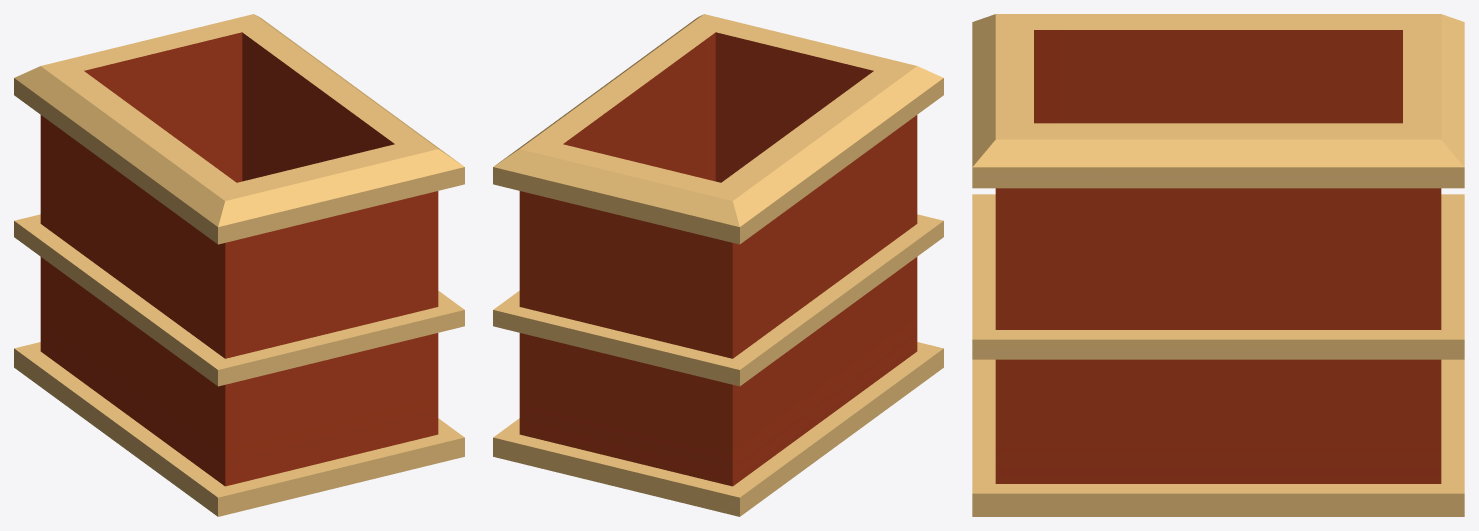
Rendered from Box(For Comb).fbx.
3 views of the same model, side by side, from view 1: azimuth 30°, elevation 25°; view 2: azimuth 150°, elevation 25°; view 3: azimuth 270°, elevation 25° (orthographic). The views are drawn at different scales.
Visible parts, largest first — view 1: Box; view 2: Box; view 3: Box.
Boxes of the visible parts, x1=… form: Box: x1=14, y1=14, x2=464, y2=516; Box: x1=493, y1=14, x2=943, y2=516; Box: x1=972, y1=14, x2=1464, y2=516.
Size of the model in its own units: 146 by 173 by 210.
